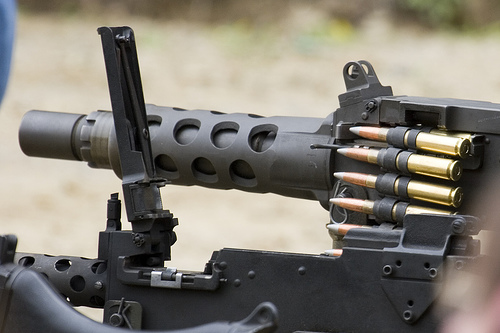rifle: (33, 29, 483, 293)
